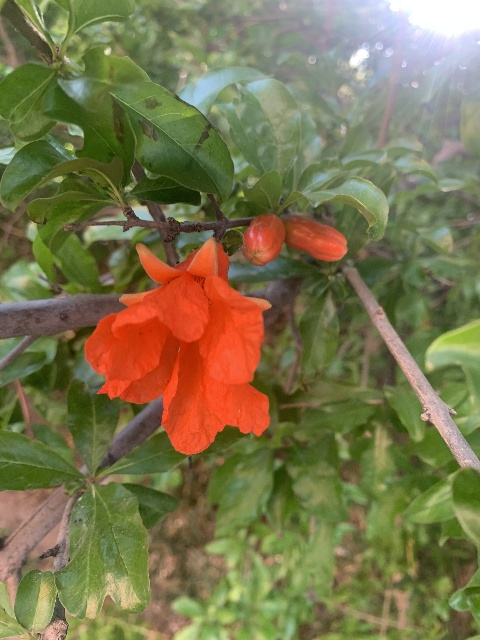bud: (282, 215, 347, 262), (241, 212, 284, 267)
flower: (85, 235, 272, 454)
